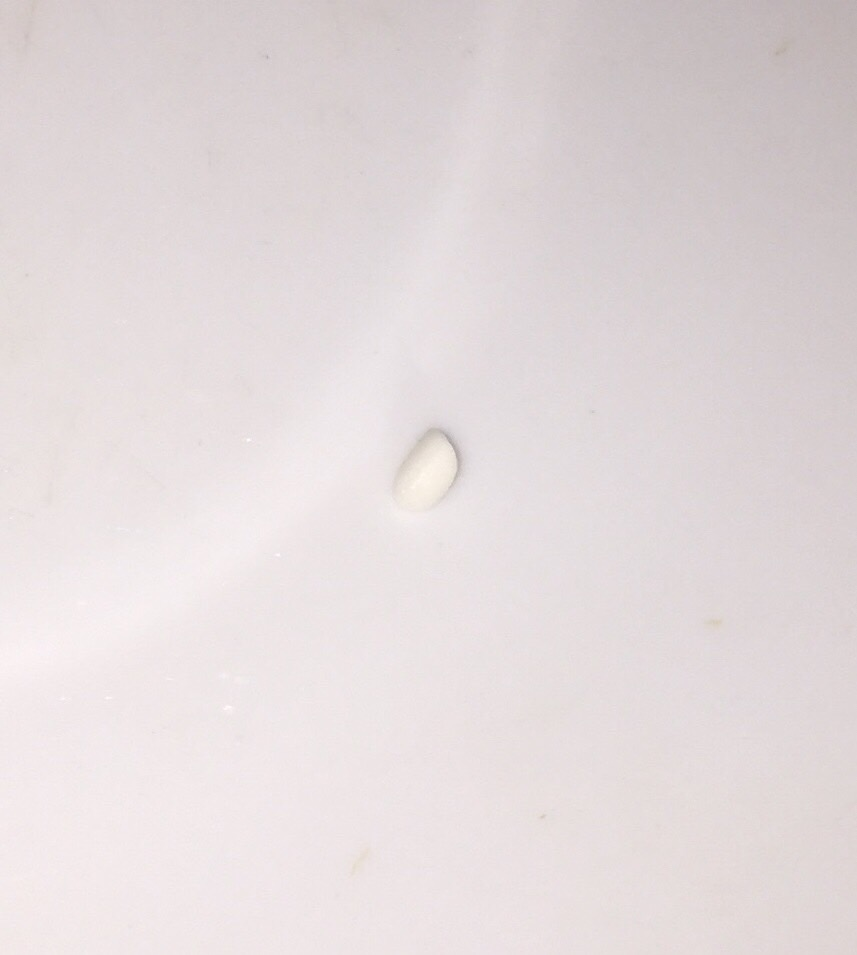Gao Nep Sap: (393, 422, 470, 536)
